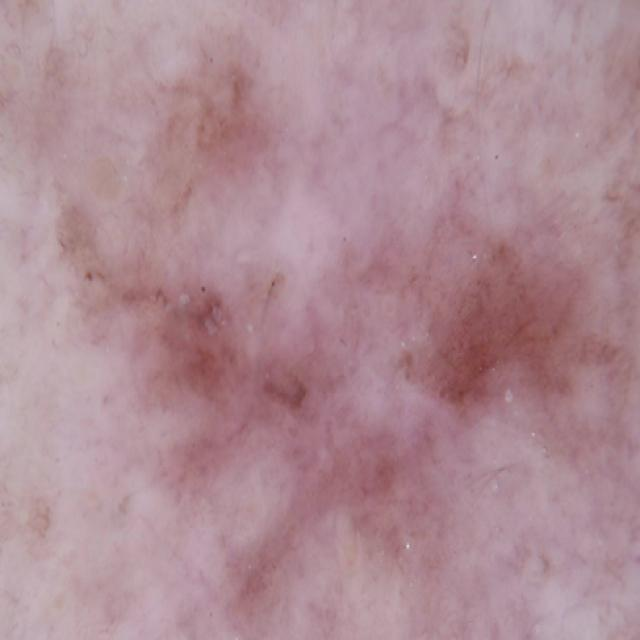Keratosis: (92, 165, 606, 633)
